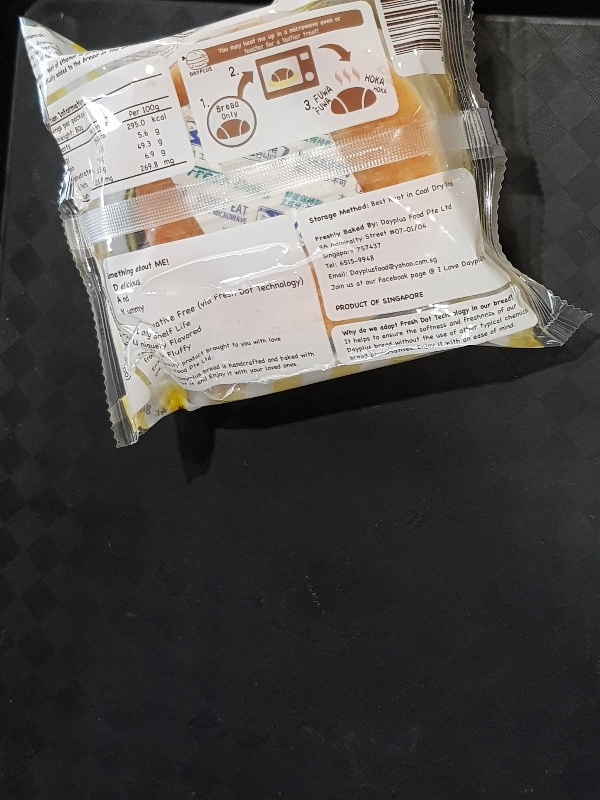Dayplus Banana: (20, 1, 592, 450)
